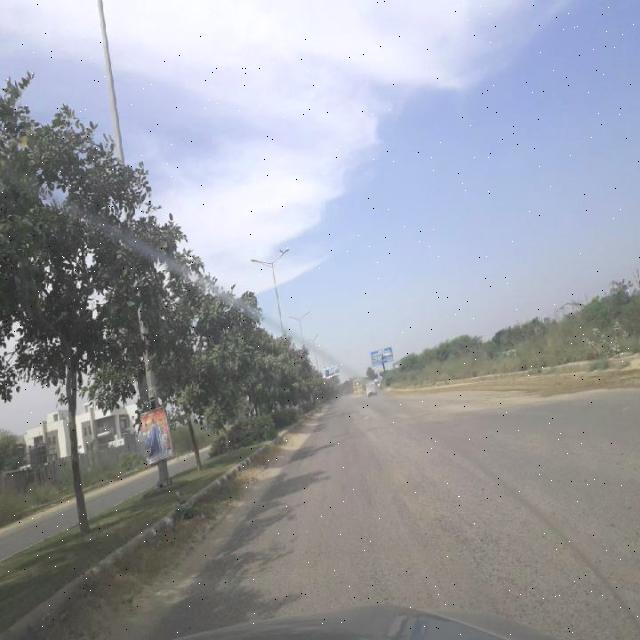D40: (393, 476, 473, 540)
